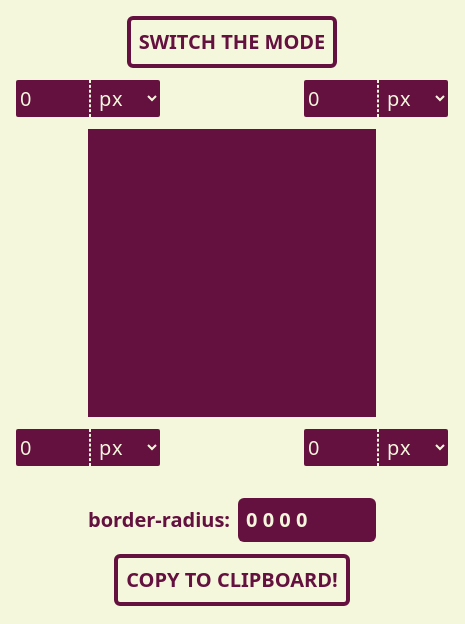
Test: App › should show the success message after clicking the copy button
The width and height of the screenshot is (465, 624).
Click the button "Copy to clipboard!" at (232, 580), box top-left (114, 554), bottom-right (350, 606)
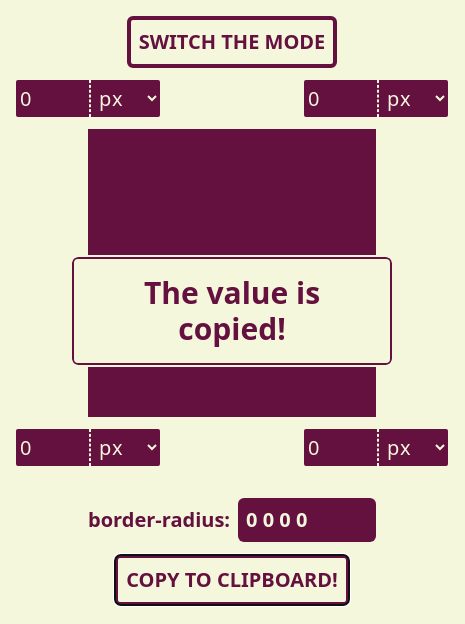
Now the message "The value is copied!" is shown, box top-left (72, 257), bottom-right (392, 365)
